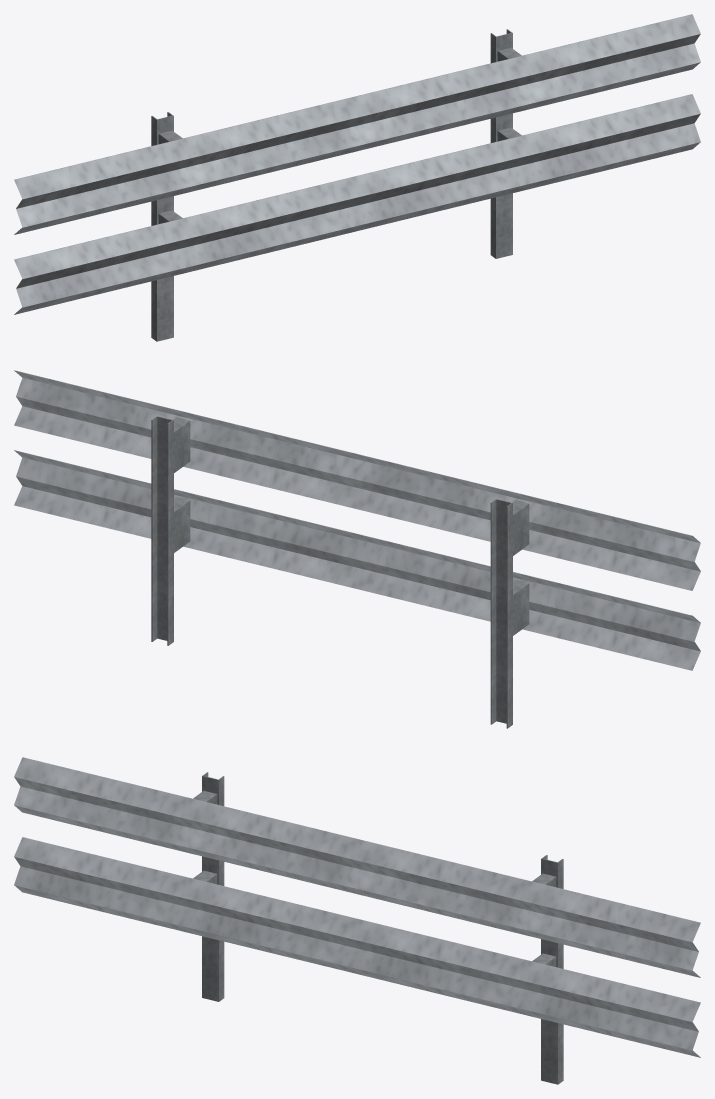
File: vangrail_4m.glb
3 renders of one model, top to bottom at view 1: azimuth 30°, elevation 25°; view 2: azimuth 150°, elevation 25°; view 3: azimuth 330°, elevation 25°, orthographic.
Visible parts, largest first — view 1: vangrail_4m; view 2: vangrail_4m; view 3: vangrail_4m.
Part boxes in pixels (bbox=[...]): vangrail_4m: bbox=[14, 14, 700, 341]; vangrail_4m: bbox=[14, 370, 700, 728]; vangrail_4m: bbox=[14, 757, 700, 1084].
Bounding box in the file's own units: 4 × 1.25 × 0.33.
Materials: 3 (2 with a texture image).
